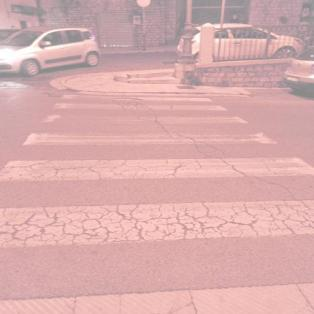Paso de Cebra: (18, 114, 283, 152)
